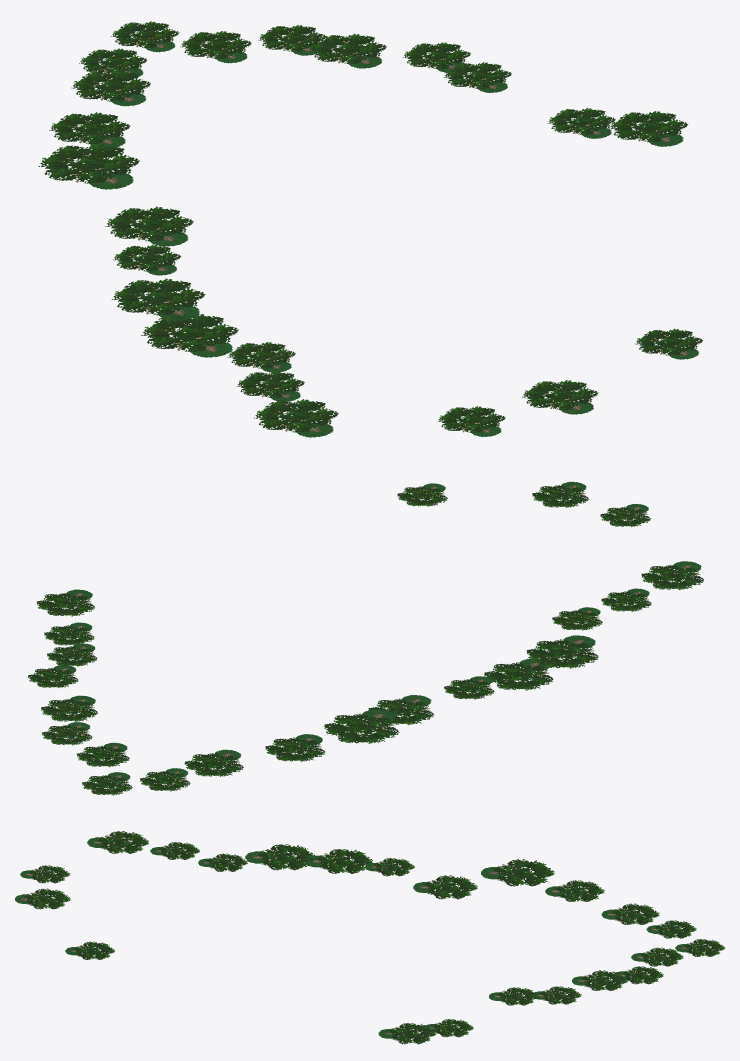
Rendered from glf_map_fc3__glf_tree_fc3.glb.
The picture shows the model from 3 angles, top to bottom: view 1: azimuth 30°, elevation 25°; view 2: azimuth 150°, elevation 25°; view 3: azimuth 270°, elevation 25°; orthographic projection. The views are drawn at different scales.
Visible parts, largest first — view 1: polygon0; view 2: polygon0; view 3: polygon0.
Boxes of the visible parts, x1,y1,x2,y2 form: polygon0: (38, 21, 702, 437); polygon0: (28, 481, 703, 795); polygon0: (15, 831, 725, 1044).
Size of the model in its own units: 1537 by 80 by 2219.
Materials: 1 (1 with a texture image).
